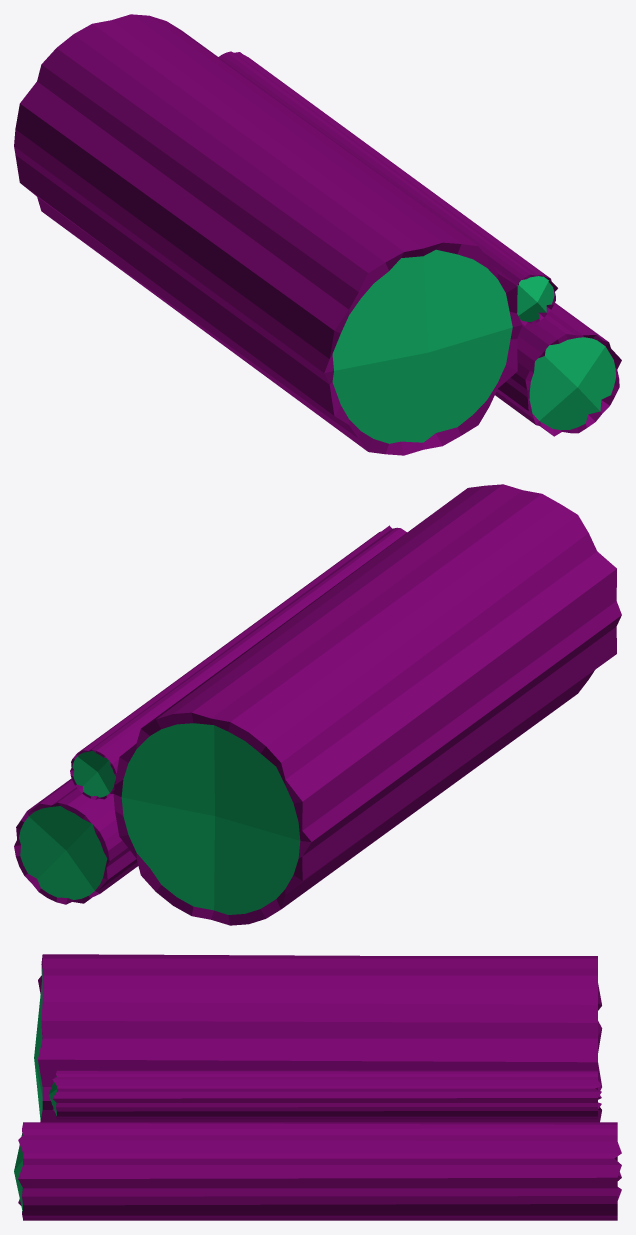
The model's file is wood_stack.fbx.
3 renders of one model, top to bottom at view 1: azimuth 30°, elevation 25°; view 2: azimuth 150°, elevation 25°; view 3: azimuth 270°, elevation 25°, orthographic. The views are drawn at different scales.
Visible parts, largest first — view 1: Cylinder.003; view 2: Cylinder.003; view 3: Cylinder.003.
Part boxes in pixels (x1,y1,x2,y2): Cylinder.003: (14,14,621,455); Cylinder.003: (14,484,621,925); Cylinder.003: (14,954,621,1220).
Bounding box in the file's own units: 26.25 × 18.75 × 54.44.
